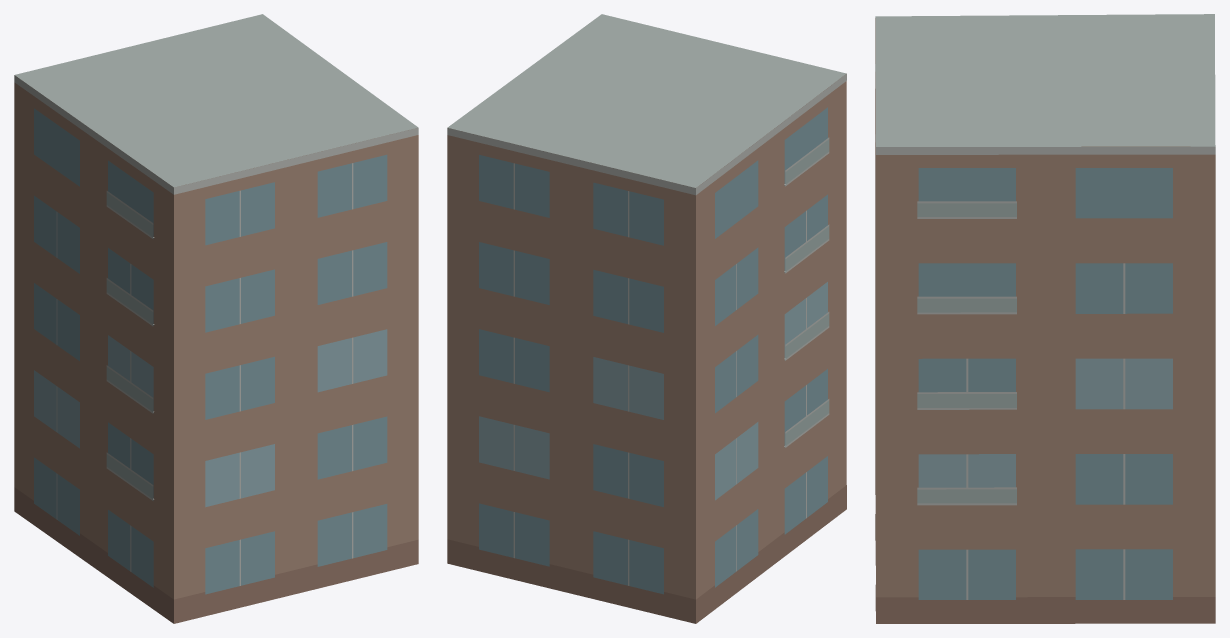
The model's file is survey-upis-32746535.glb.
The picture shows the model from 3 angles, left to right: view 1: azimuth 30°, elevation 25°; view 2: azimuth 150°, elevation 25°; view 3: azimuth 270°, elevation 25°; orthographic projection. The views are drawn at different scales.
Visible parts, largest first — view 1: survey-upis-32746535.tmp; view 2: survey-upis-32746535.tmp; view 3: survey-upis-32746535.tmp.
Part boxes in pixels (x1,y1,x2,y2): survey-upis-32746535.tmp: [14, 14, 418, 623]; survey-upis-32746535.tmp: [447, 14, 846, 623]; survey-upis-32746535.tmp: [875, 14, 1215, 623].
Bounding box in the file's own units: 8.77 × 14.6 × 9.45.
